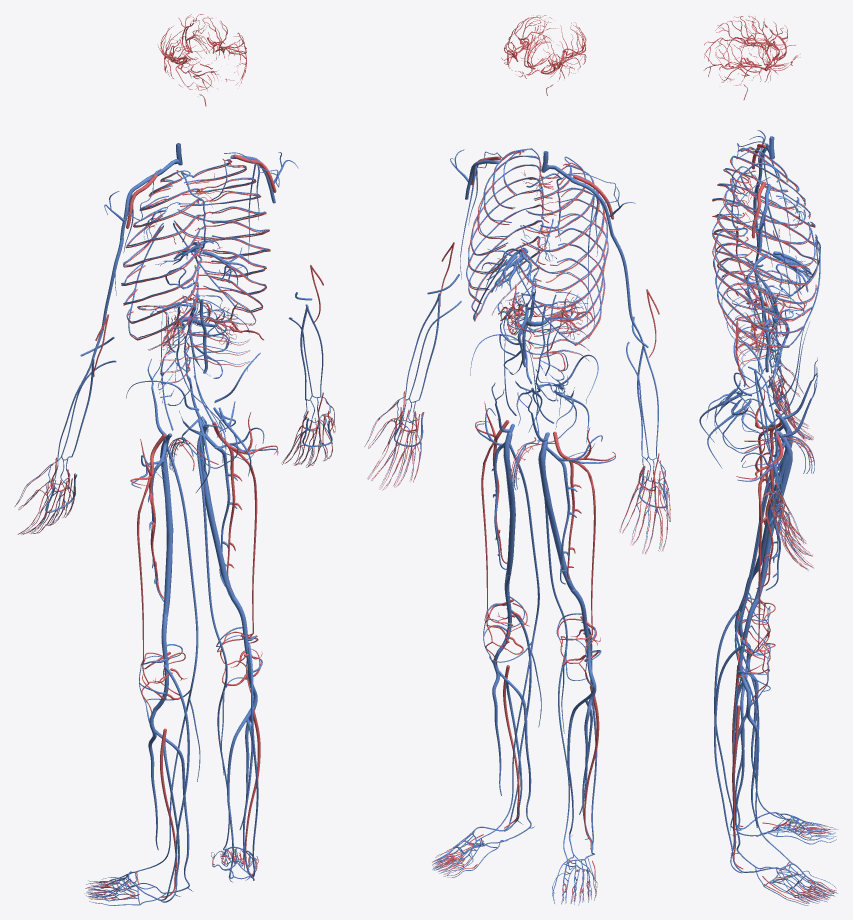
The model's file is extended_circulatory_lod2.glb.
3 views of the same model, side by side, from view 1: azimuth 30°, elevation 25°; view 2: azimuth 150°, elevation 25°; view 3: azimuth 270°, elevation 25° (orthographic). The views are drawn at different scales.
Parts seen in each view (by area): view 1: FJ1985, FJ1994, FJ1961, FJ1975, FJ2103, FJ2145, FJ2102, FJ2144, FJ2121, FJ2176; view 2: FJ1985, FJ1994, FJ1975, FJ1961, FJ2145, FJ2103, FJ2102, FJ2144; view 3: FJ1994, FJ1961, FJ1985, FJ1975, FJ2145, FJ2144, FJ2103, FJ2176, FJ2102, FJ2121, FJ2203, FJ2197 (+7 smaller).
Boxes of the visible parts, x1,y1,x2,y2 form: FJ1985: [121, 170, 205, 349]; FJ1994: [174, 159, 270, 325]; FJ1961: [175, 178, 270, 325]; FJ1975: [121, 188, 202, 350]; FJ2103: [134, 446, 200, 872]; FJ2145: [197, 436, 229, 850]; FJ2102: [160, 438, 173, 616]; FJ2144: [199, 430, 235, 601]; FJ2121: [145, 664, 189, 900]; FJ2176: [248, 644, 258, 878]; FJ1985: [516, 156, 608, 344]; FJ1994: [466, 148, 543, 318]; FJ1975: [518, 165, 608, 345]; FJ1961: [467, 155, 558, 321]; FJ2145: [479, 440, 541, 839]; FJ2103: [538, 448, 569, 861]; FJ2102: [539, 441, 574, 593]; FJ2144: [503, 432, 515, 577]; FJ1994: [712, 166, 818, 350]; FJ1961: [712, 176, 818, 351]; FJ1985: [712, 146, 818, 302]; FJ1975: [712, 157, 818, 301]; FJ2145: [734, 450, 791, 863]; FJ2144: [754, 437, 792, 603]; FJ2103: [734, 425, 791, 819]; FJ2176: [714, 644, 754, 872]; FJ2102: [754, 419, 792, 571]; FJ2121: [714, 609, 754, 829]; FJ2203: [756, 432, 783, 588]; FJ2197: [732, 705, 743, 869].
Bounding box in the file's own units: 64.88 × 171 × 25.36.
